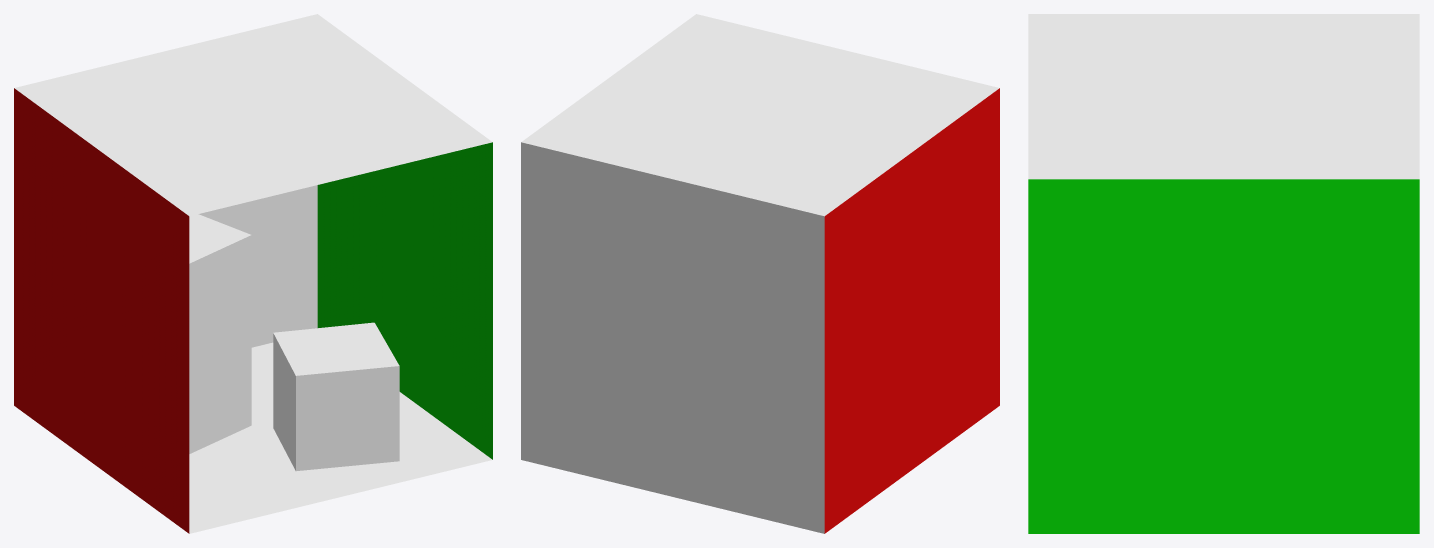
The model's file is cornellbox-plastic.obj.
3 views of the same model, side by side, from view 1: azimuth 30°, elevation 25°; view 2: azimuth 150°, elevation 25°; view 3: azimuth 270°, elevation 25° (orthographic). The views are drawn at different scales.
Parts seen in each view (by area): view 1: leftWall_Mesh, ceiling_Mesh, rightWall_Mesh, floor_Mesh, shortBox_Mesh, tallBox_Mesh, frontWall_Mesh; view 2: frontWall_Mesh, leftWall_Mesh, ceiling_Mesh; view 3: rightWall_Mesh, ceiling_Mesh.
Boxes of the visible parts, bbox=[...] form: leftWall_Mesh: bbox=[14, 88, 189, 533]; ceiling_Mesh: bbox=[14, 14, 492, 216]; rightWall_Mesh: bbox=[317, 142, 492, 459]; floor_Mesh: bbox=[189, 342, 492, 533]; shortBox_Mesh: bbox=[273, 322, 399, 471]; tallBox_Mesh: bbox=[189, 214, 251, 453]; frontWall_Mesh: bbox=[198, 185, 317, 347]; frontWall_Mesh: bbox=[521, 142, 824, 533]; leftWall_Mesh: bbox=[824, 88, 999, 533]; ceiling_Mesh: bbox=[521, 14, 999, 216]; rightWall_Mesh: bbox=[1028, 179, 1419, 533]; ceiling_Mesh: bbox=[1028, 14, 1419, 179].
Size of the model in its own units: 2 by 2 by 2.
